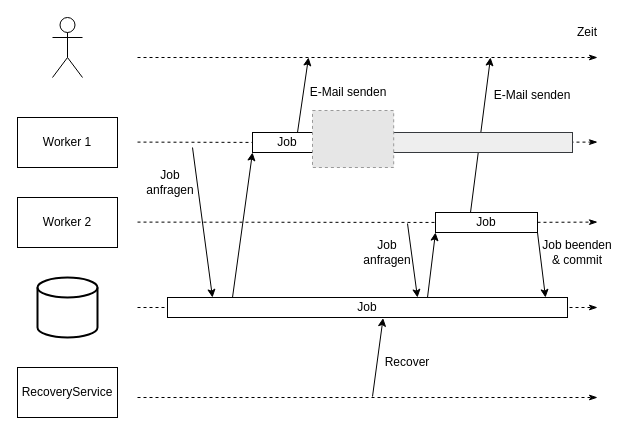
Some shapes in this 635 by 435 pixel diagram are drawn without their labels. Grey dashed boxes stand in for pictures. Each missing label, with the centre of its shape:
"Crashed" goes at (472,142).
"Empfänger" goes at (67,47).
"Job Store" goes at (67,307).
